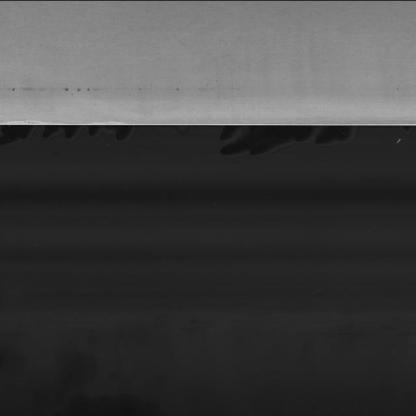oil_spot: (8, 83, 148, 93)
